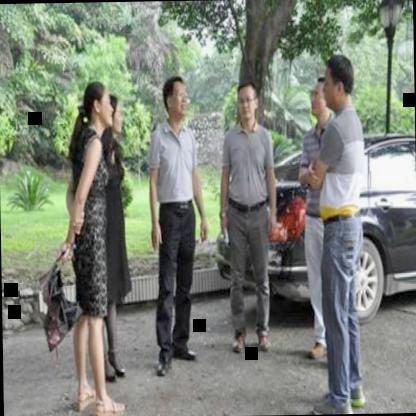head: (321, 50, 357, 116), (159, 70, 191, 124), (82, 76, 112, 130), (234, 73, 262, 129), (308, 74, 330, 122), (108, 91, 122, 136)
